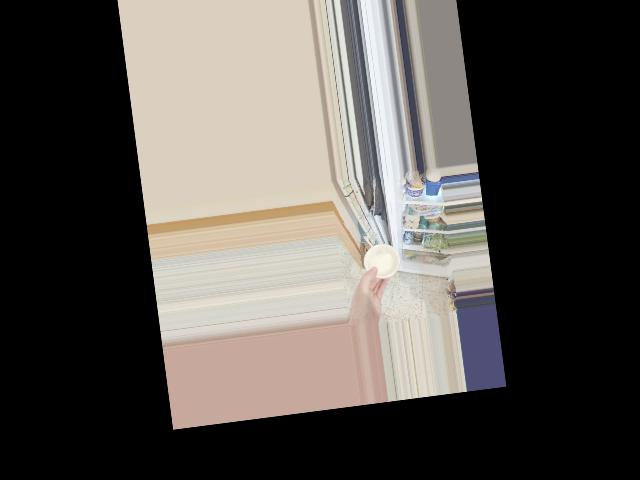cotage: (363, 241, 400, 278)
